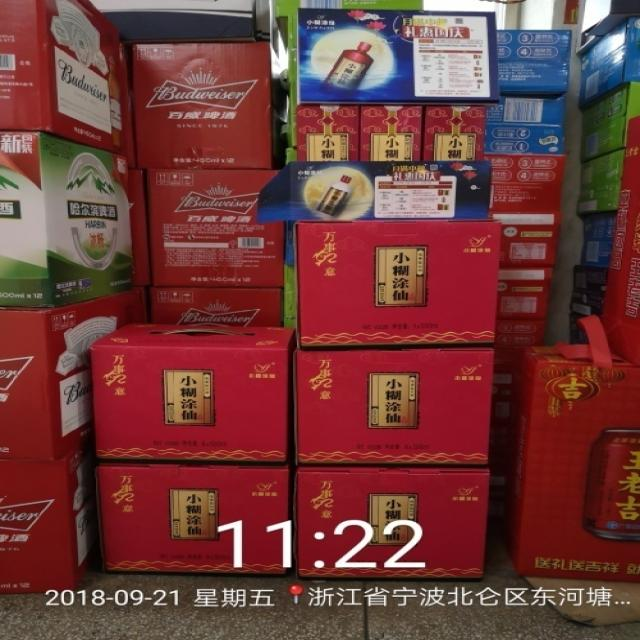box: (501, 340, 639, 581), (88, 321, 294, 461), (1, 285, 151, 459), (298, 221, 497, 347), (292, 345, 496, 464), (1, 130, 136, 308), (294, 462, 487, 584), (97, 461, 292, 571), (294, 9, 504, 106), (0, 1, 129, 153), (126, 40, 274, 167), (252, 0, 421, 105), (144, 166, 286, 288), (0, 434, 106, 595), (284, 156, 492, 222), (90, 0, 257, 42), (492, 220, 560, 321), (578, 17, 639, 112), (488, 151, 568, 222), (145, 283, 285, 323), (495, 30, 574, 98), (576, 83, 639, 165), (484, 98, 567, 153), (576, 147, 639, 217), (353, 105, 426, 161), (573, 265, 639, 324), (578, 206, 639, 269), (294, 104, 359, 162), (492, 319, 544, 383), (425, 106, 485, 158), (581, 0, 639, 51), (129, 167, 153, 290), (492, 381, 518, 474), (280, 222, 296, 323), (566, 314, 588, 342)
